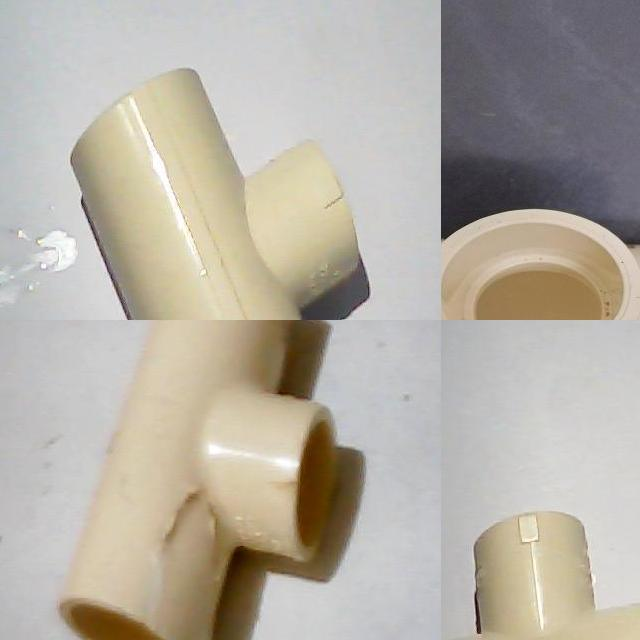Defective: (149, 472, 216, 640)
T Joint: (57, 320, 338, 640), (69, 69, 372, 320), (454, 512, 640, 640), (441, 212, 640, 320)
